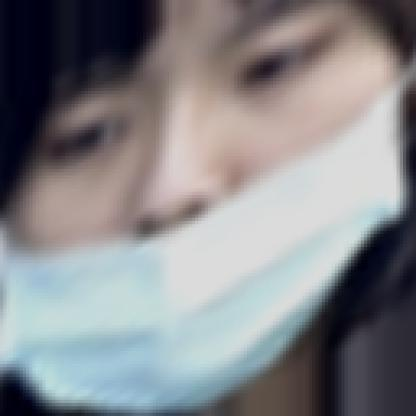mask_weared_incorrect: (0, 0, 408, 377)
